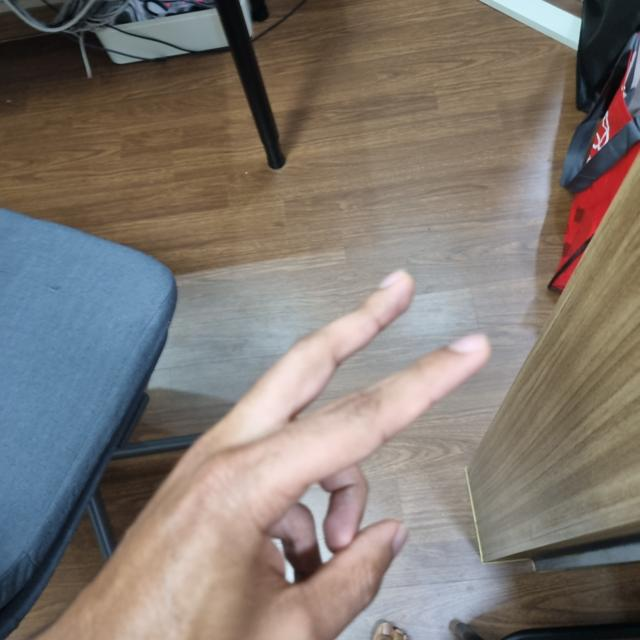Scissors: (15, 271, 495, 639)
